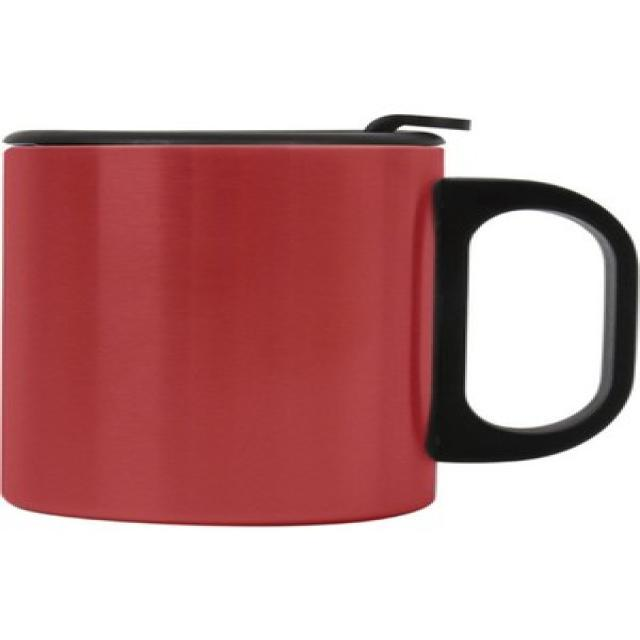Coffee Mug: (2, 144, 640, 530)
